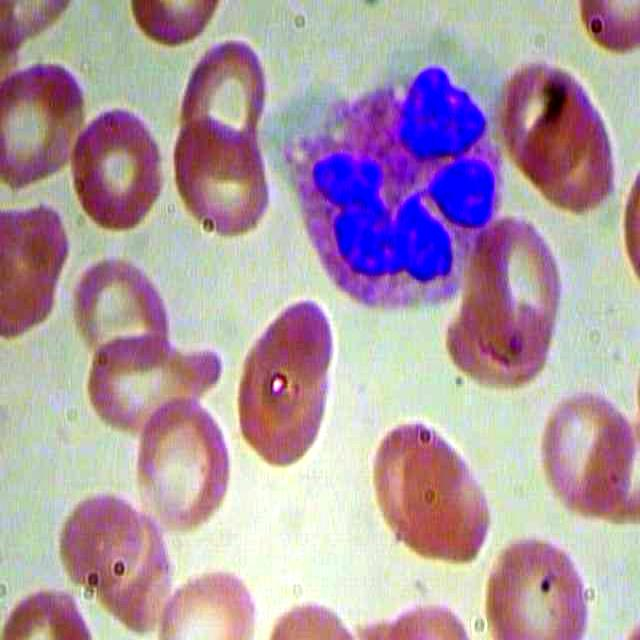RBC: (365, 408, 494, 567), (236, 288, 345, 464), (57, 339, 225, 433), (64, 256, 182, 379), (62, 98, 165, 234), (528, 385, 632, 519), (177, 33, 273, 176), (494, 48, 593, 184), (129, 400, 229, 528), (45, 490, 146, 594)
WBC: (280, 57, 507, 315)
